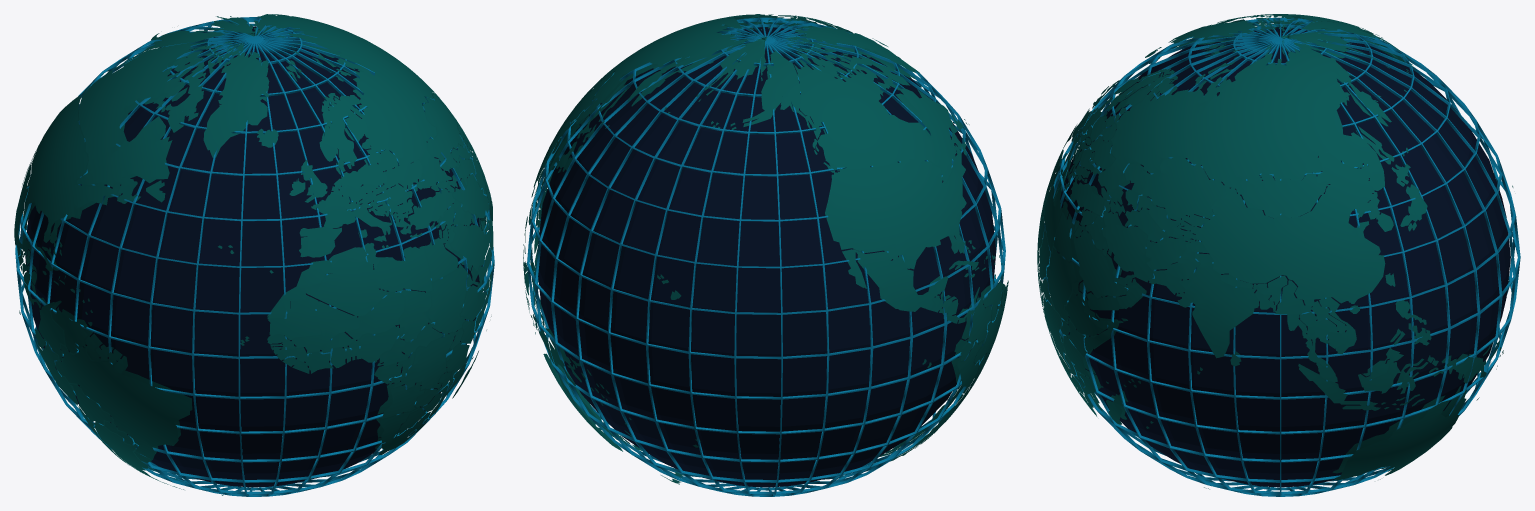
The model's file is globe.glb.
3 renders of one model, left to right at view 1: azimuth 30°, elevation 25°; view 2: azimuth 150°, elevation 25°; view 3: azimuth 270°, elevation 25°, orthographic.
Visible parts, largest first — view 1: Sphere, Sphere.001, Latlong; view 2: Sphere.001, Sphere, Latlong; view 3: Sphere, Sphere.001, Latlong.
Boxes of the visible parts, left/top/right/bottom form: Sphere: left=14, top=14, right=494, bottom=495; Sphere.001: left=25, top=26, right=482, bottom=487; Latlong: left=15, top=17, right=494, bottom=496; Sphere.001: left=537, top=27, right=996, bottom=487; Sphere: left=523, top=14, right=1008, bottom=484; Latlong: left=527, top=17, right=1005, bottom=496; Sphere: left=1037, top=14, right=1513, bottom=489; Sphere.001: left=1056, top=27, right=1510, bottom=487; Latlong: left=1042, top=17, right=1520, bottom=496.
Size of the model in its own units: 1.31 by 1.3 by 1.3.
